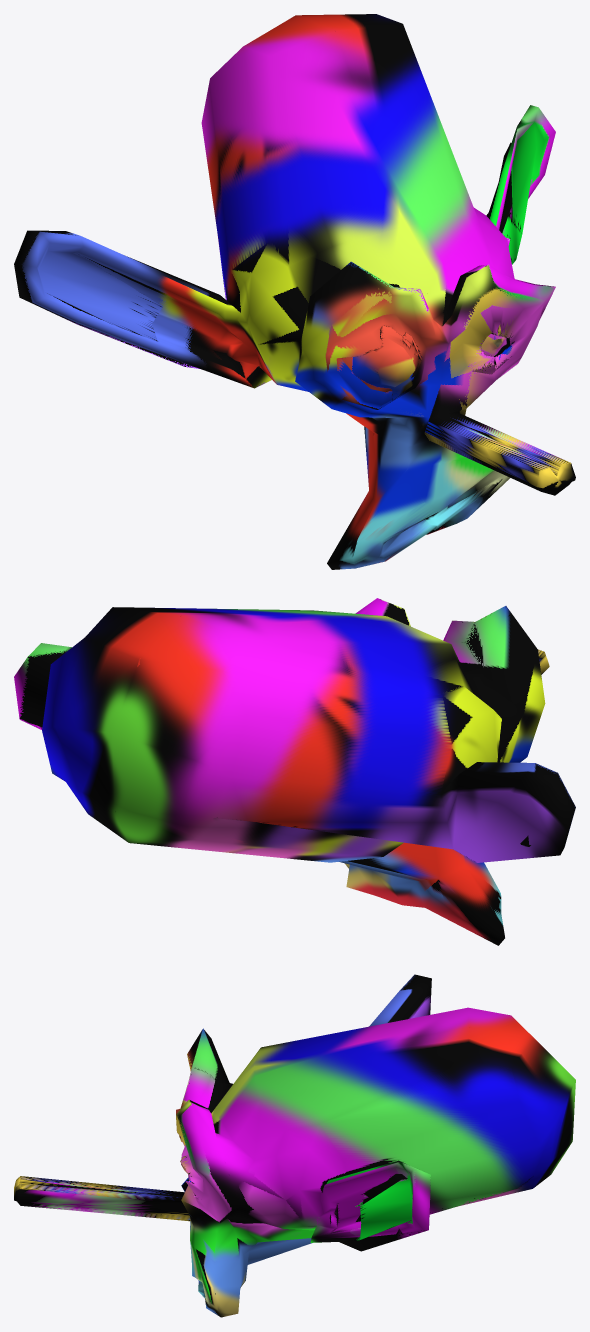
File: monkey.glb
3 views of the same model, one above another, from view 1: azimuth 30°, elevation 25°; view 2: azimuth 150°, elevation 25°; view 3: azimuth 270°, elevation 25° (orthographic). The views are drawn at different scales.
Visible parts, largest first — view 1: Suzanne; view 2: Suzanne; view 3: Suzanne.
Part boxes in pixels (x1,y1,x2,y2): Suzanne: (14, 14, 575, 569); Suzanne: (14, 598, 575, 945); Suzanne: (14, 974, 575, 1317).
Size of the model in its own units: 365 by 253 by 407.
Materials: 1 (1 with a texture image).
